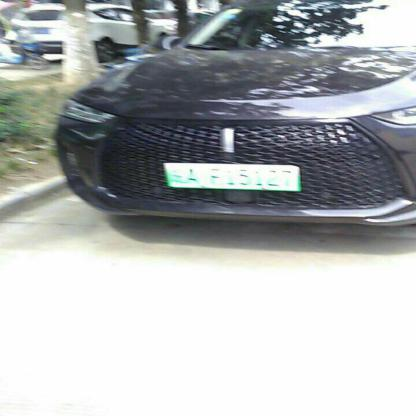lp: (160, 163, 301, 189)
